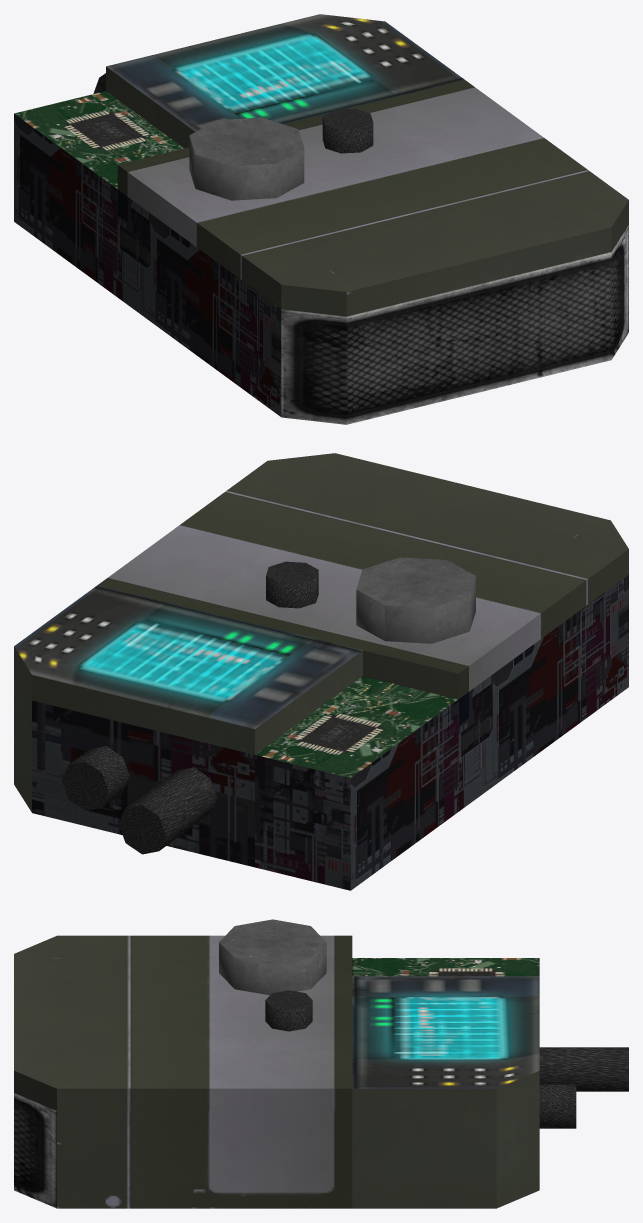
Rendered from Controller_07.fbx.
The picture shows the model from 3 angles, top to bottom: view 1: azimuth 30°, elevation 25°; view 2: azimuth 150°, elevation 25°; view 3: azimuth 270°, elevation 25°; orthographic projection. The views are drawn at different scales.
Parts seen in each view (by area): view 1: Controller_07; view 2: Controller_07; view 3: Controller_07.
Part boxes in pixels (<box>): Controller_07: <box>14,14,628,424</box>; Controller_07: <box>14,453,628,890</box>; Controller_07: <box>14,919,628,1208</box>.
Bounding box in the file's own units: 22.1 × 10.17 × 37.55.
